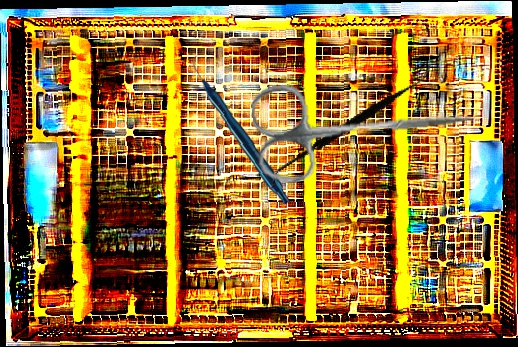Handpiece: (186, 55, 296, 204)
Iris Scissors: (249, 65, 480, 187)
Spatula Surgical: (268, 24, 435, 229)
